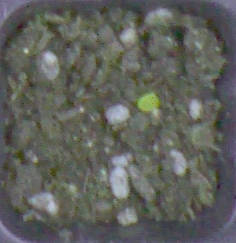pepper seed: (55, 34, 217, 148)
